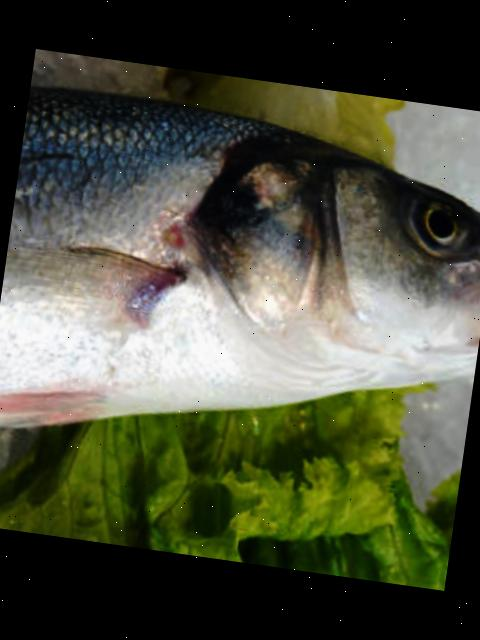Healthy Fish: (0, 85, 480, 428)
